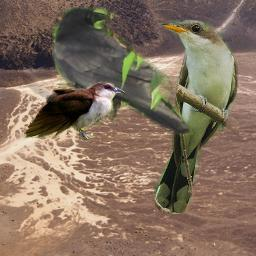Crow: (52, 7, 193, 135)
Cuckoo: (154, 20, 239, 214), (23, 42, 126, 143)
